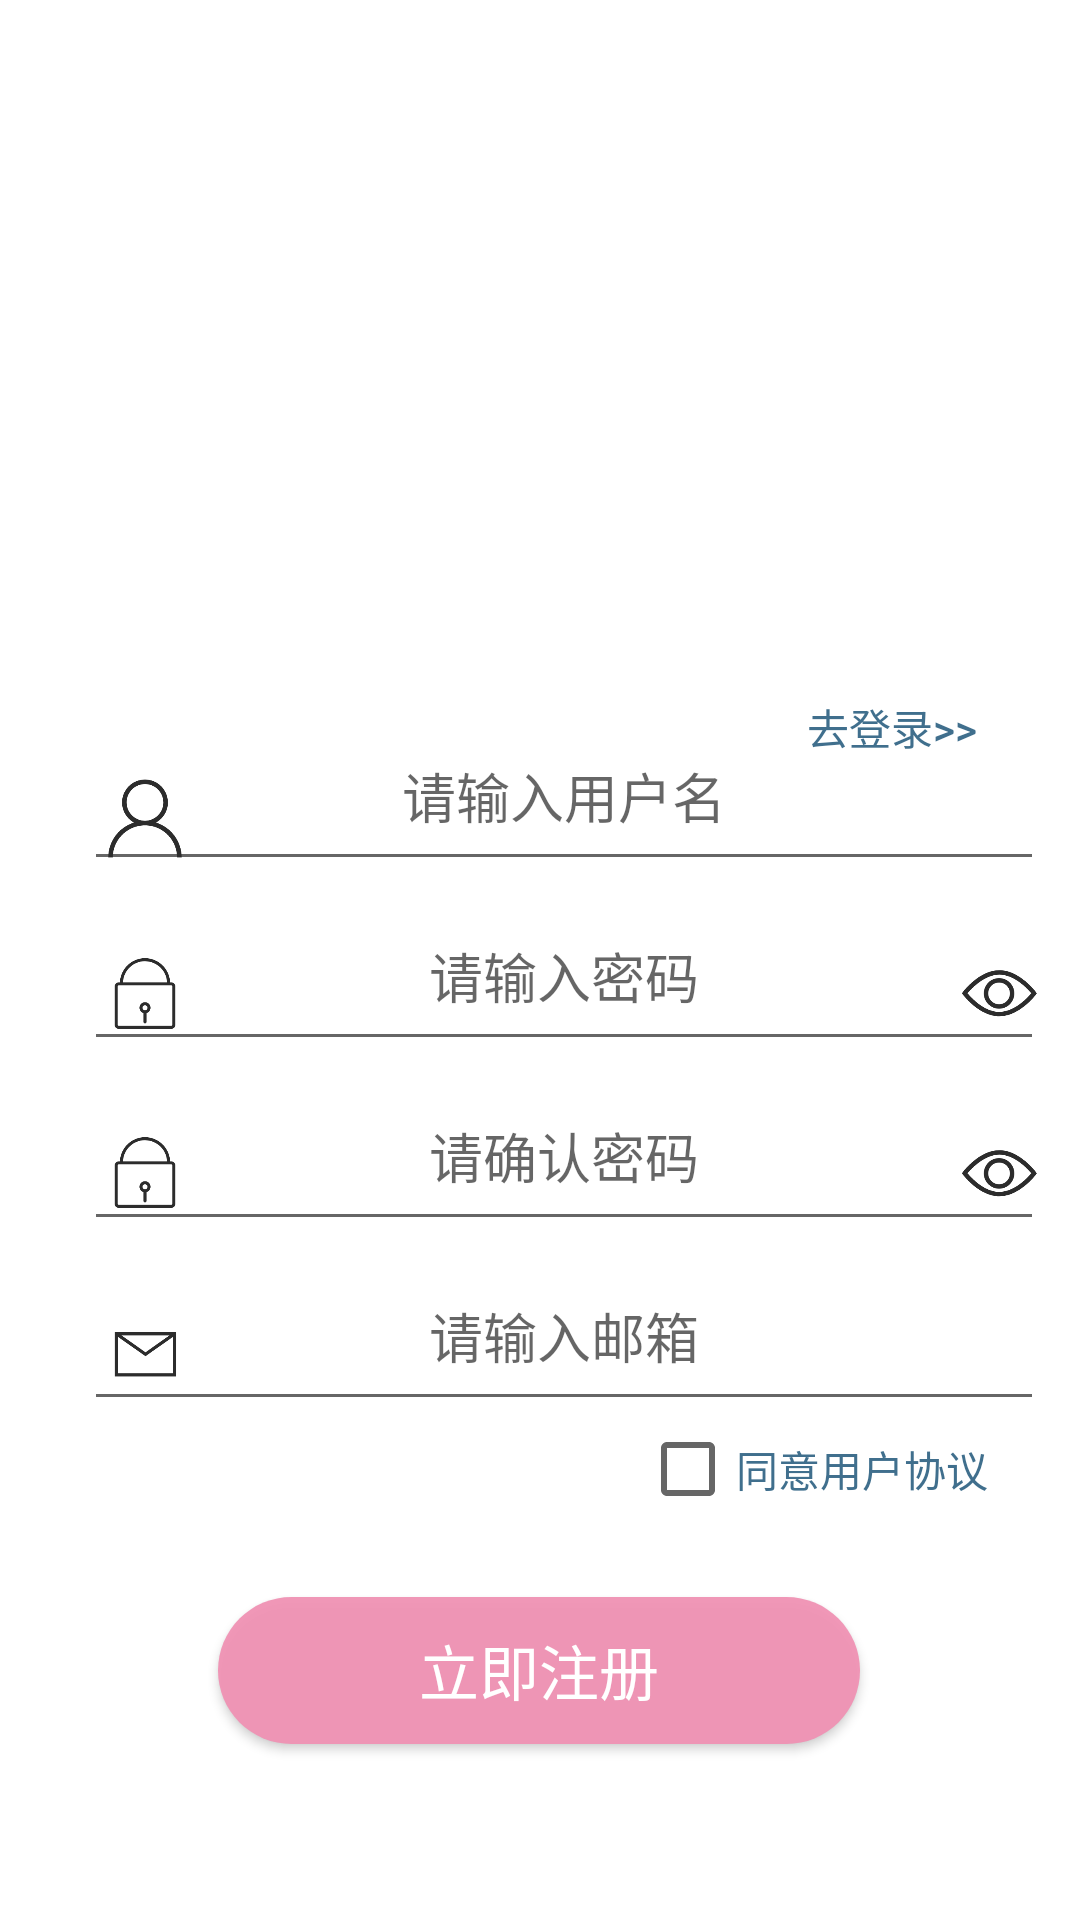

Where to tap for icons on this 1080w x 1920h app screen, as (x=x, y=y):
lock: (x=145, y=993), (x=145, y=1172)
user: (x=145, y=818)
